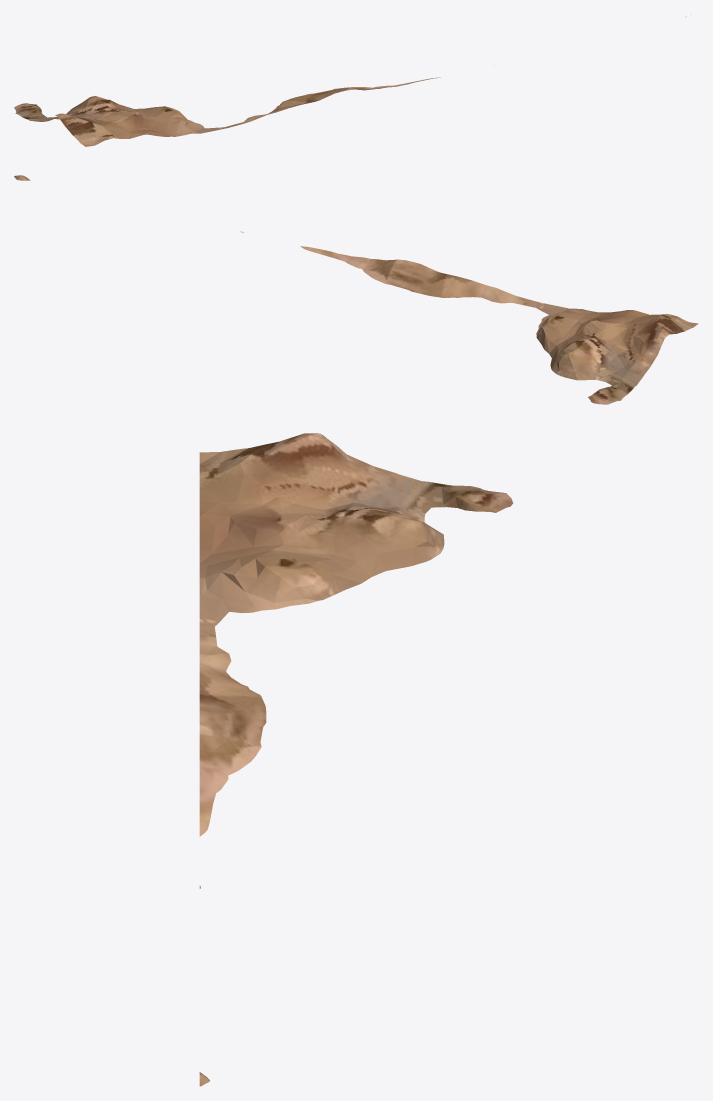
The picture shows the model from 3 angles, top to bottom: view 1: azimuth 30°, elevation 25°; view 2: azimuth 150°, elevation 25°; view 3: azimuth 270°, elevation 25°; orthographic projection. The views are drawn at different scales.
Size of the model in its own units: 0.9109 by 0.0418 by 0.2017.
1 material, 1 textured.
